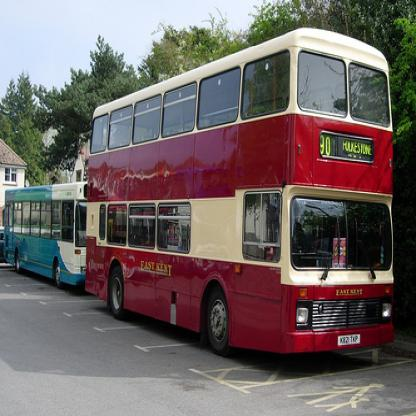bus: (84, 28, 396, 364), (2, 177, 85, 288)
